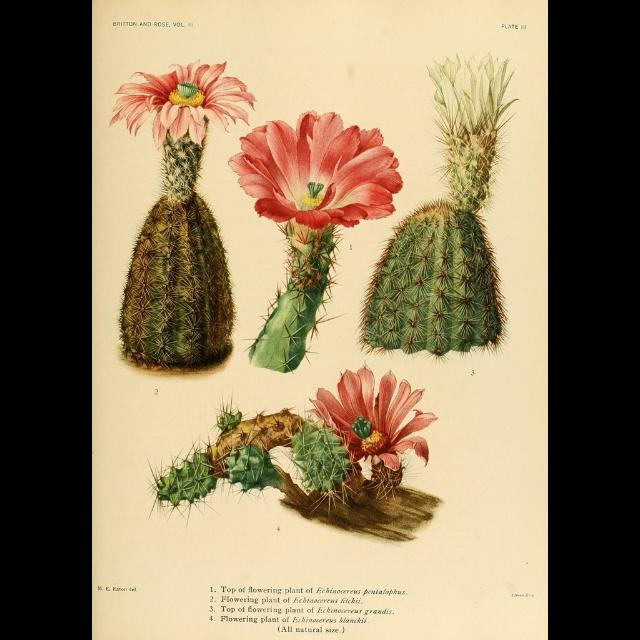Flower: (224, 108, 400, 235), (301, 358, 443, 484), (104, 56, 258, 152)
